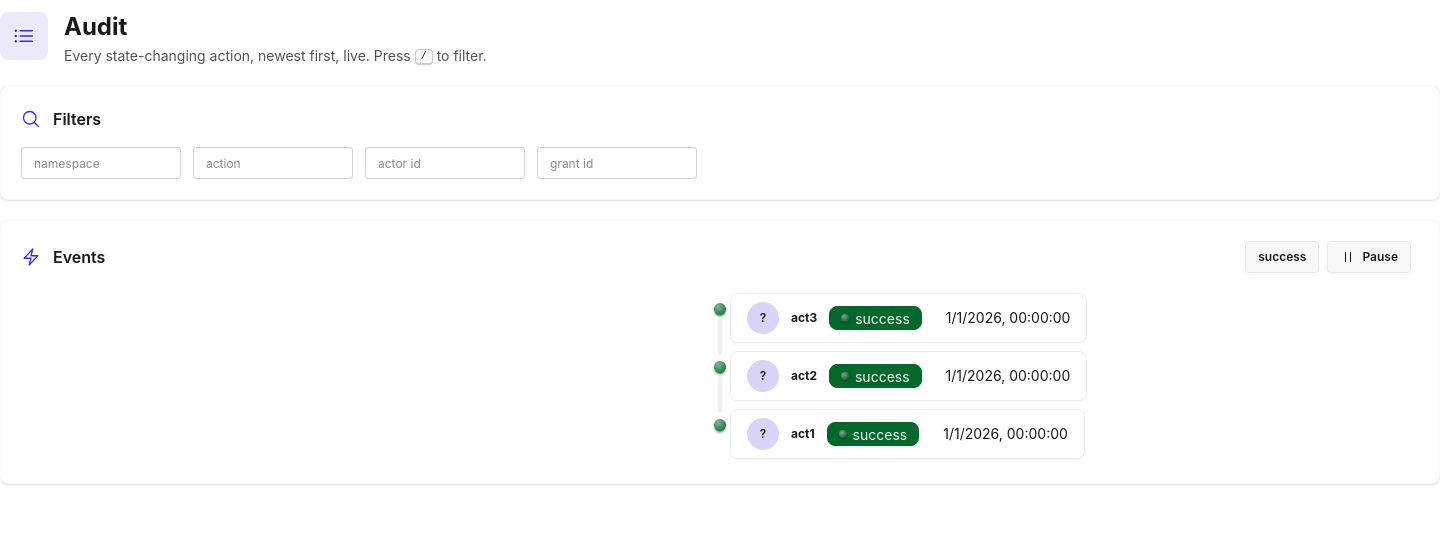
audit feed: new event on top, held while paused
Expected: the list item "? act3 success 1/1/2026, 00:00:00" is shown, [714, 293, 1087, 347]
Click the button "Pause" at x=1369, y=257, box [1327, 241, 1411, 273]
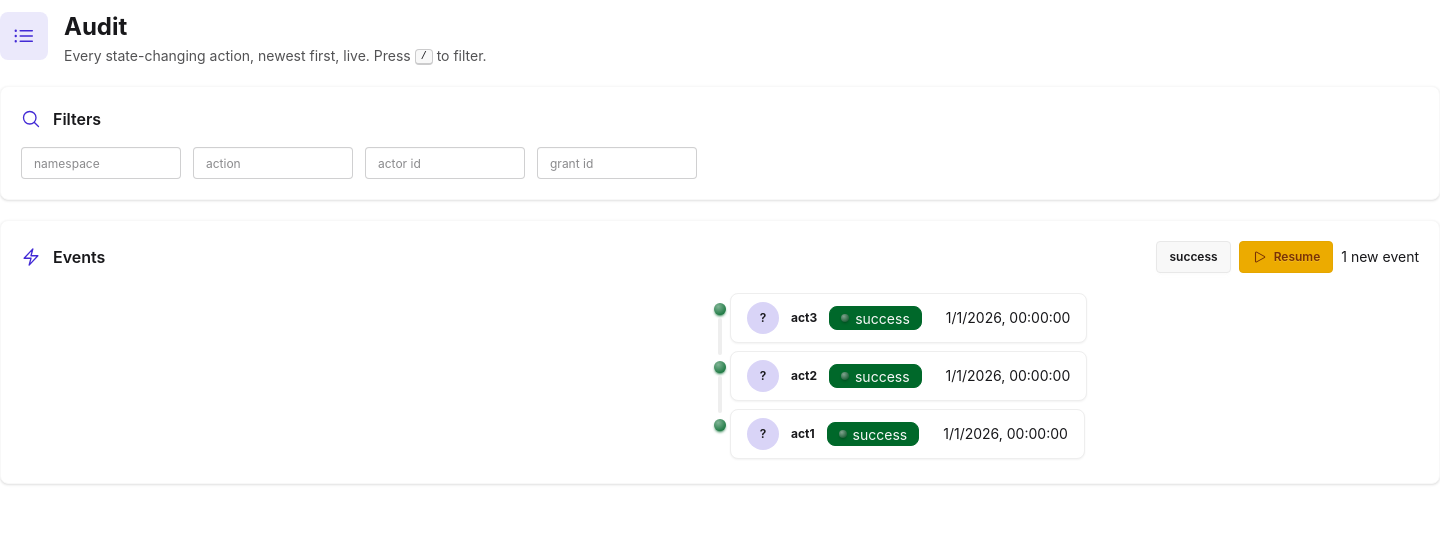
Expected: the list item "? act3 success 1/1/2026, 00:00:00" is shown, [714, 293, 1087, 347]
Result: the text "1 new event" is shown at [1341, 247, 1419, 267]
Click the button "Resume" at x=1286, y=257, box [1239, 241, 1333, 273]
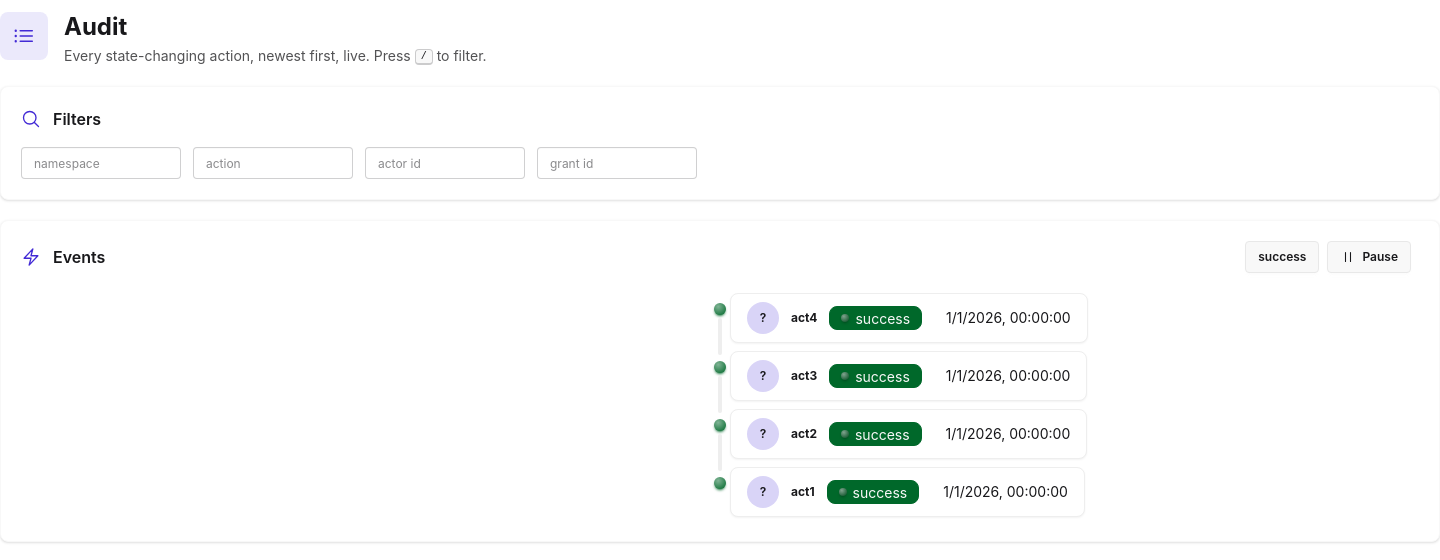
Result: the list item "? act4 success 1/1/2026, 00:00:00" is shown at [714, 293, 1088, 347]
